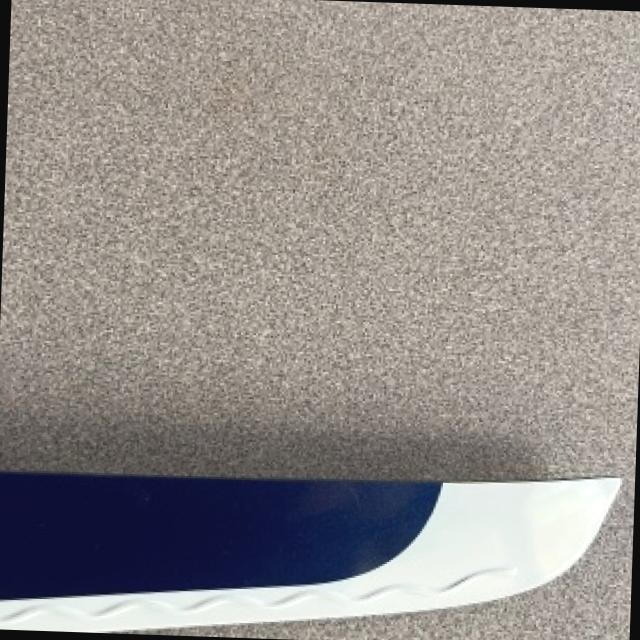healthy: (0, 478, 615, 631)
